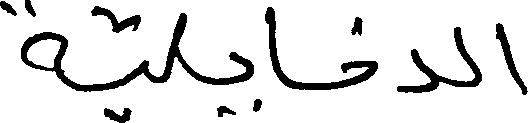X: (0, 0, 67, 90), (343, 12, 377, 92), (497, 18, 527, 99), (397, 44, 437, 97), (453, 22, 480, 91), (228, 47, 253, 119), (168, 8, 186, 83), (265, 2, 280, 85), (138, 10, 149, 84)
